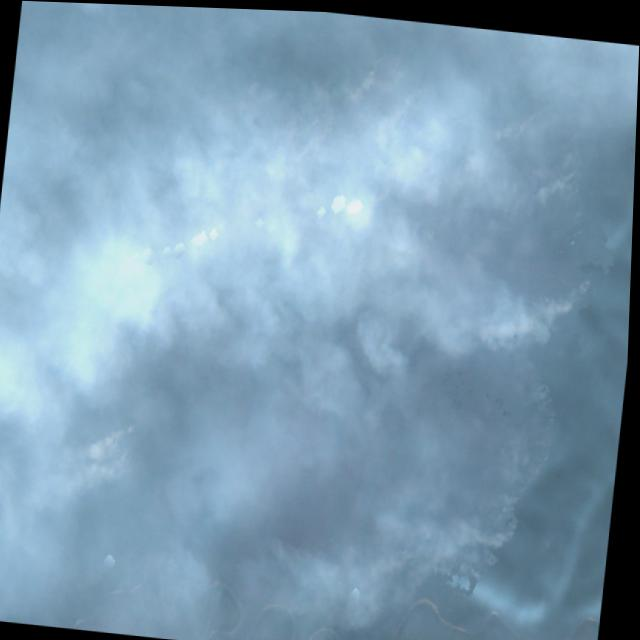fire: (89, 26, 632, 620)
